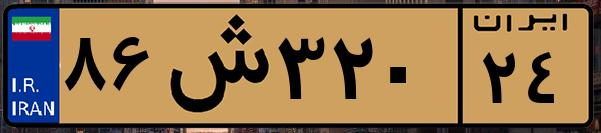0: (385, 28, 445, 110)
2: (330, 28, 385, 110), (475, 38, 525, 113)
3: (270, 28, 330, 110)
4: (525, 38, 570, 115)
6: (110, 28, 158, 98)
8: (57, 26, 110, 100)
ش: (158, 12, 270, 120)
